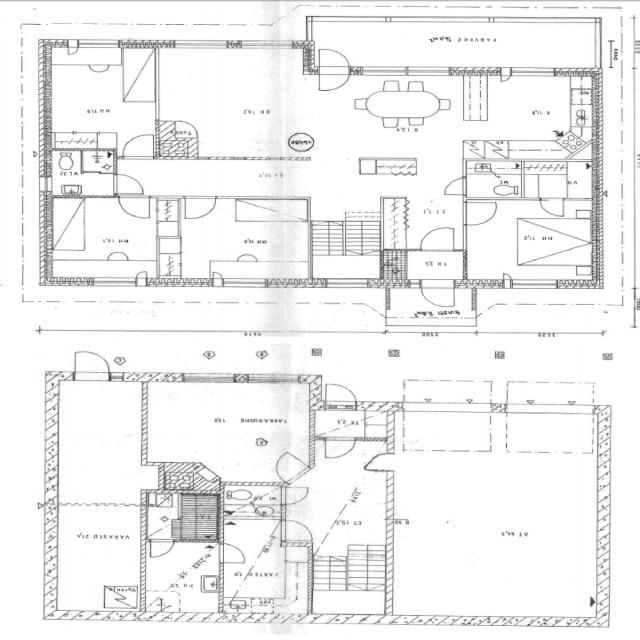door: (312, 46, 353, 95), (113, 173, 152, 222), (70, 349, 113, 384), (417, 278, 460, 311), (416, 224, 460, 254), (460, 198, 500, 228), (320, 380, 360, 410), (118, 132, 156, 160), (180, 195, 218, 222), (279, 518, 314, 544), (322, 436, 357, 461), (111, 172, 146, 195), (537, 195, 567, 219), (146, 537, 176, 560), (217, 542, 248, 564), (280, 485, 311, 505), (440, 176, 468, 196), (84, 61, 112, 77), (496, 64, 515, 86), (64, 42, 81, 58)
window: (354, 63, 453, 79), (170, 38, 230, 52), (235, 38, 294, 52), (319, 276, 374, 291), (507, 277, 565, 291), (180, 372, 236, 386), (241, 373, 299, 386), (87, 276, 140, 290), (506, 66, 558, 80), (74, 38, 123, 52), (221, 278, 267, 288)
zone: (394, 404, 603, 622), (50, 379, 144, 611), (284, 70, 466, 162), (155, 46, 282, 159), (138, 381, 315, 456), (158, 196, 310, 277), (44, 46, 156, 152), (462, 74, 596, 158), (465, 198, 594, 281), (288, 452, 392, 553), (46, 197, 164, 284), (305, 549, 388, 622), (142, 539, 220, 615), (218, 515, 286, 601), (145, 490, 221, 540), (44, 149, 116, 197), (390, 248, 469, 286), (522, 163, 597, 200), (312, 408, 384, 440), (464, 165, 525, 201), (222, 482, 282, 518), (418, 276, 463, 310), (212, 261, 268, 288)
